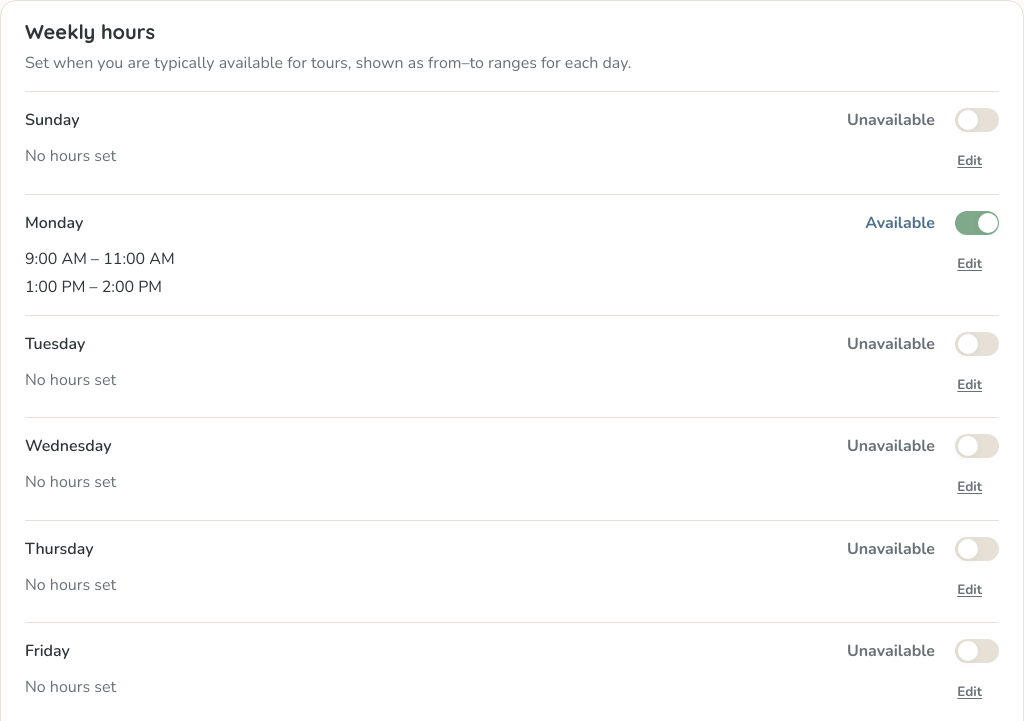
Scenario: WeeklyHoursPanel — toggle drives rule `active` (deactivate-preserve) › surfaces affected bookings under the day's row when turning a day off overlaps a booking
The image size is (1024, 721).
Click the switch named "monday availability" at [977, 222], box top-left (955, 210), bottom-right (999, 234)
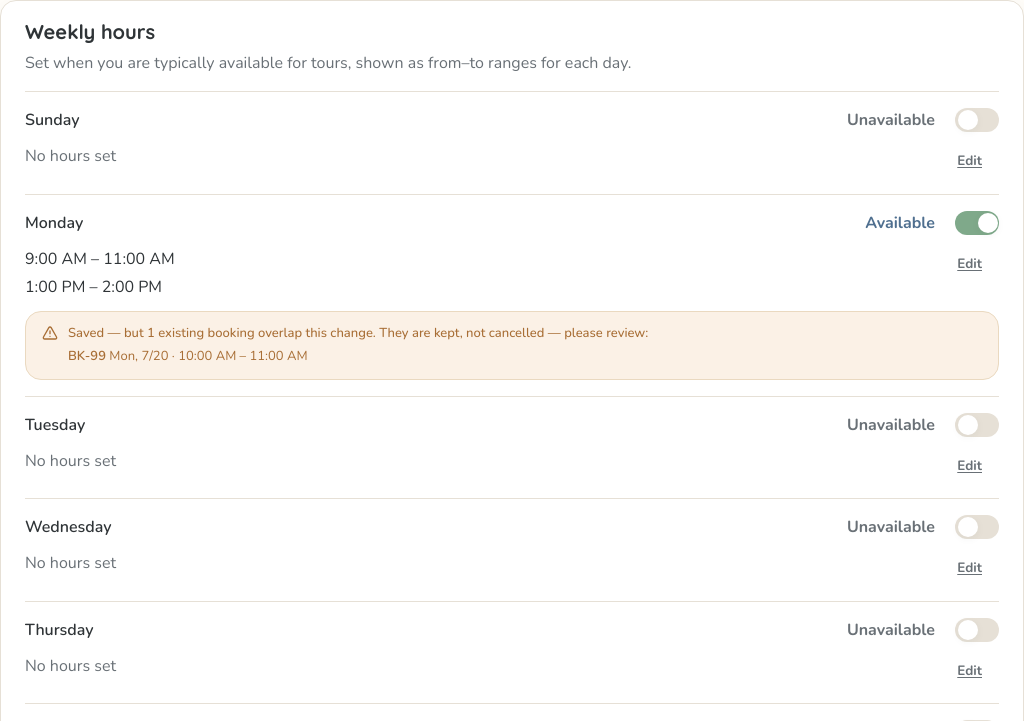
Expected: the text "existing booking" is shown, top-left (147, 324), bottom-right (255, 342)
Expected: the text "BK-99" is shown, top-left (68, 347), bottom-right (106, 365)
